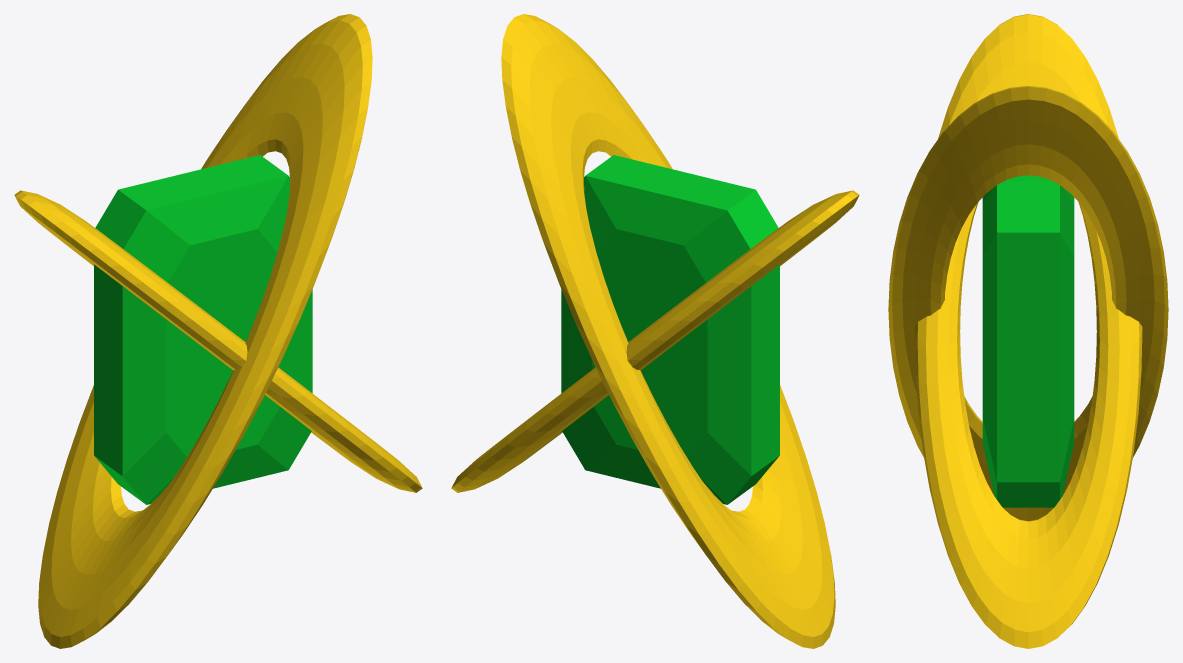
File: amulet.glb
The picture shows the model from 3 angles, left to right: view 1: azimuth 30°, elevation 25°; view 2: azimuth 150°, elevation 25°; view 3: azimuth 270°, elevation 25°; orthographic projection. The views are drawn at different scales.
Parts seen in each view (by area): view 1: Torus, Cube, Torus.001; view 2: Torus, Cube, Torus.001; view 3: Torus.001, Torus, Cube.
Part boxes in pixels (bbox=[...]): Torus: bbox=[38, 14, 372, 648]; Cube: bbox=[94, 155, 312, 504]; Torus.001: bbox=[14, 190, 422, 492]; Torus: bbox=[501, 14, 835, 648]; Cube: bbox=[561, 155, 779, 504]; Torus.001: bbox=[451, 190, 859, 492]; Torus.001: bbox=[914, 14, 1142, 648]; Torus: bbox=[888, 86, 1168, 521]; Cube: bbox=[982, 175, 1074, 507].
Bounding box in the file's own units: 5.56 × 7.43 × 3.08.
Materials: 3 (3 with a texture image).
